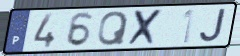1: (182, 9, 196, 44)
4: (32, 12, 58, 49)
6: (65, 11, 95, 48)
J: (198, 7, 228, 44)
Q: (96, 10, 130, 48)
X: (126, 8, 166, 47)
